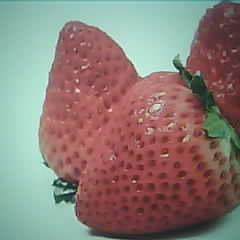straw-ripe: (76, 74, 240, 236), (40, 21, 145, 196)
